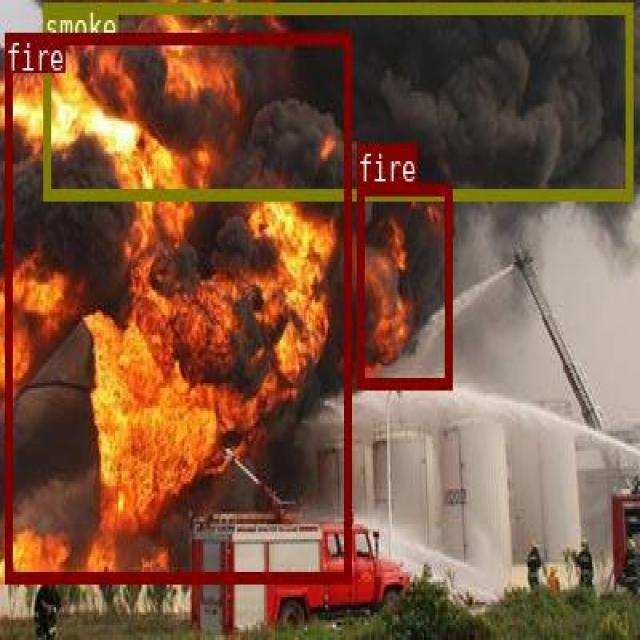fire: (4, 31, 350, 582), (356, 183, 451, 386)
smoke: (43, 2, 631, 198)
